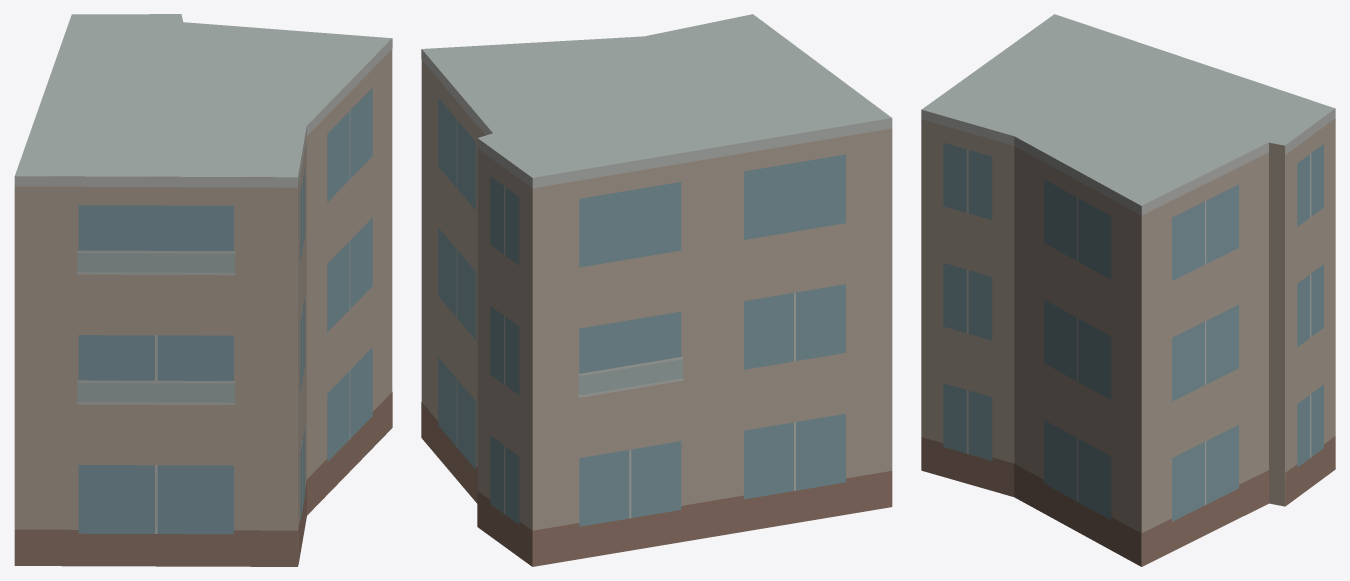
The model's file is survey-upis-32725283.glb.
The picture shows the model from 3 angles, left to right: view 1: azimuth 30°, elevation 25°; view 2: azimuth 150°, elevation 25°; view 3: azimuth 270°, elevation 25°; orthographic projection. The views are drawn at different scales.
Parts seen in each view (by area): view 1: survey-upis-32725283.tmp; view 2: survey-upis-32725283.tmp; view 3: survey-upis-32725283.tmp.
Part boxes in pixels (x1,y1,x2,y2): survey-upis-32725283.tmp: [14, 14, 392, 566]; survey-upis-32725283.tmp: [421, 14, 892, 566]; survey-upis-32725283.tmp: [921, 14, 1335, 566].
Bounding box in the file's own units: 10.44 × 9.15 × 9.52.
